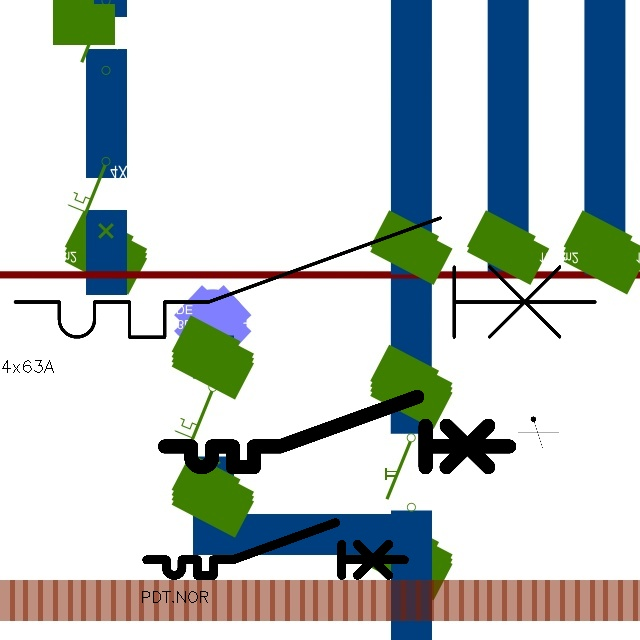interruptor_termomagnetico: (0, 203, 610, 352), (156, 388, 518, 476), (140, 516, 411, 582)
